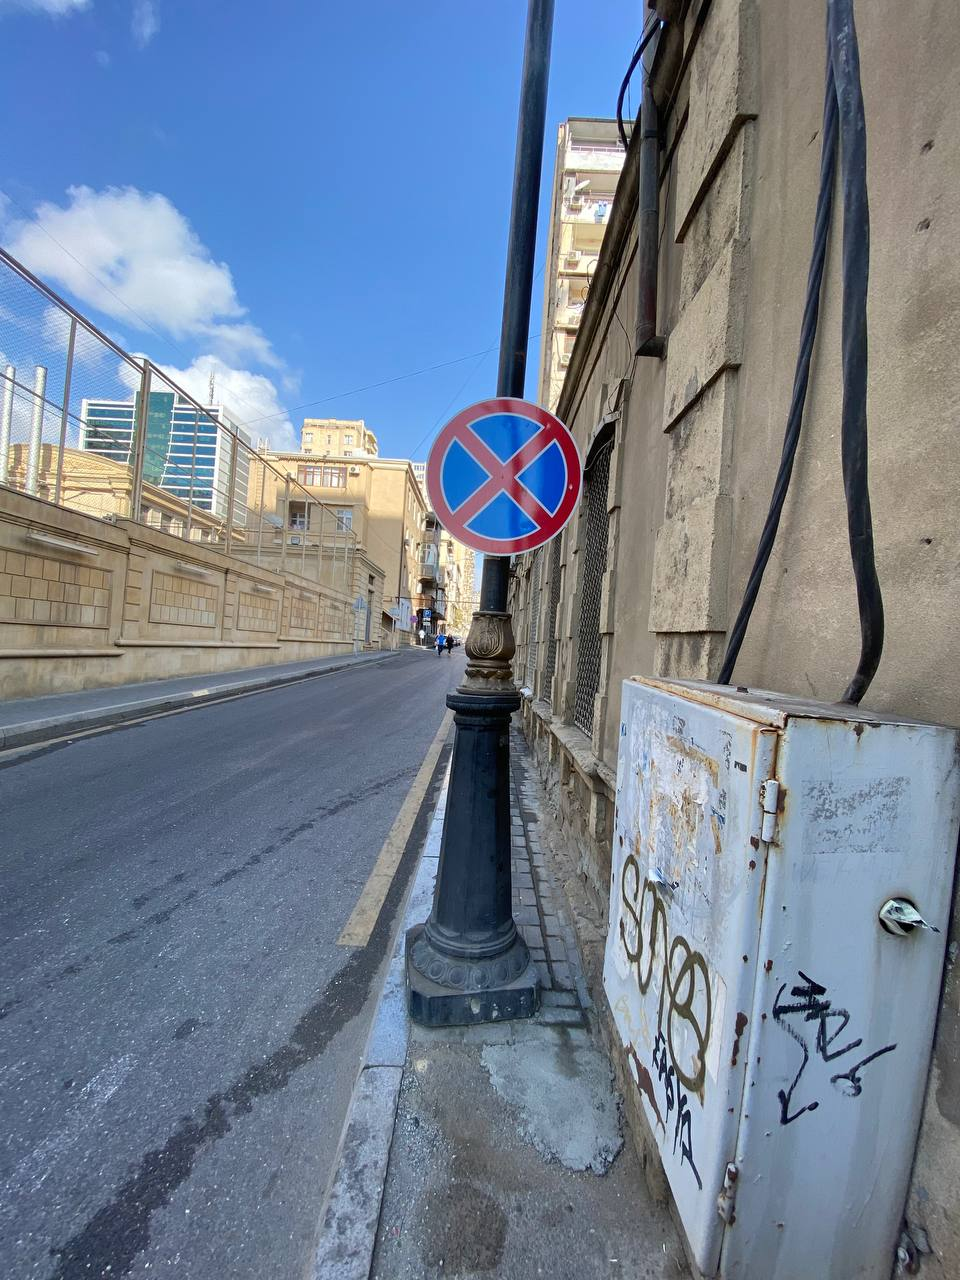No Parking: (424, 397, 583, 555)
